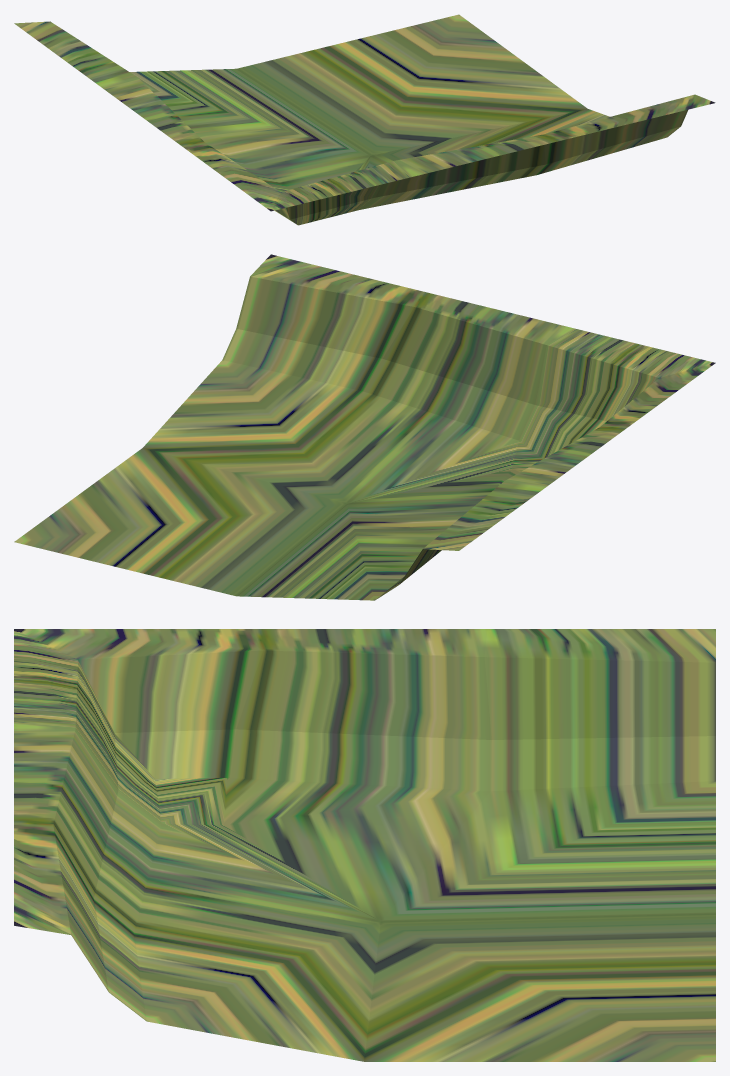
The model's file is Mesh_WaterTileOutsideCorner.fbx.
3 renders of one model, top to bottom at view 1: azimuth 30°, elevation 25°; view 2: azimuth 150°, elevation 25°; view 3: azimuth 270°, elevation 25°, orthographic. The views are drawn at different scales.
Visible parts, largest first — view 1: WaterTileOutsideCorner; view 2: WaterTileOutsideCorner; view 3: WaterTileOutsideCorner.
Boxes of the visible parts, left/top/right/bottom form: WaterTileOutsideCorner: left=14, top=14, right=715, bottom=225; WaterTileOutsideCorner: left=14, top=254, right=715, bottom=600; WaterTileOutsideCorner: left=14, top=629, right=715, bottom=1061.
Bounding box in the file's own units: 10000 × 2140 × 10000.
